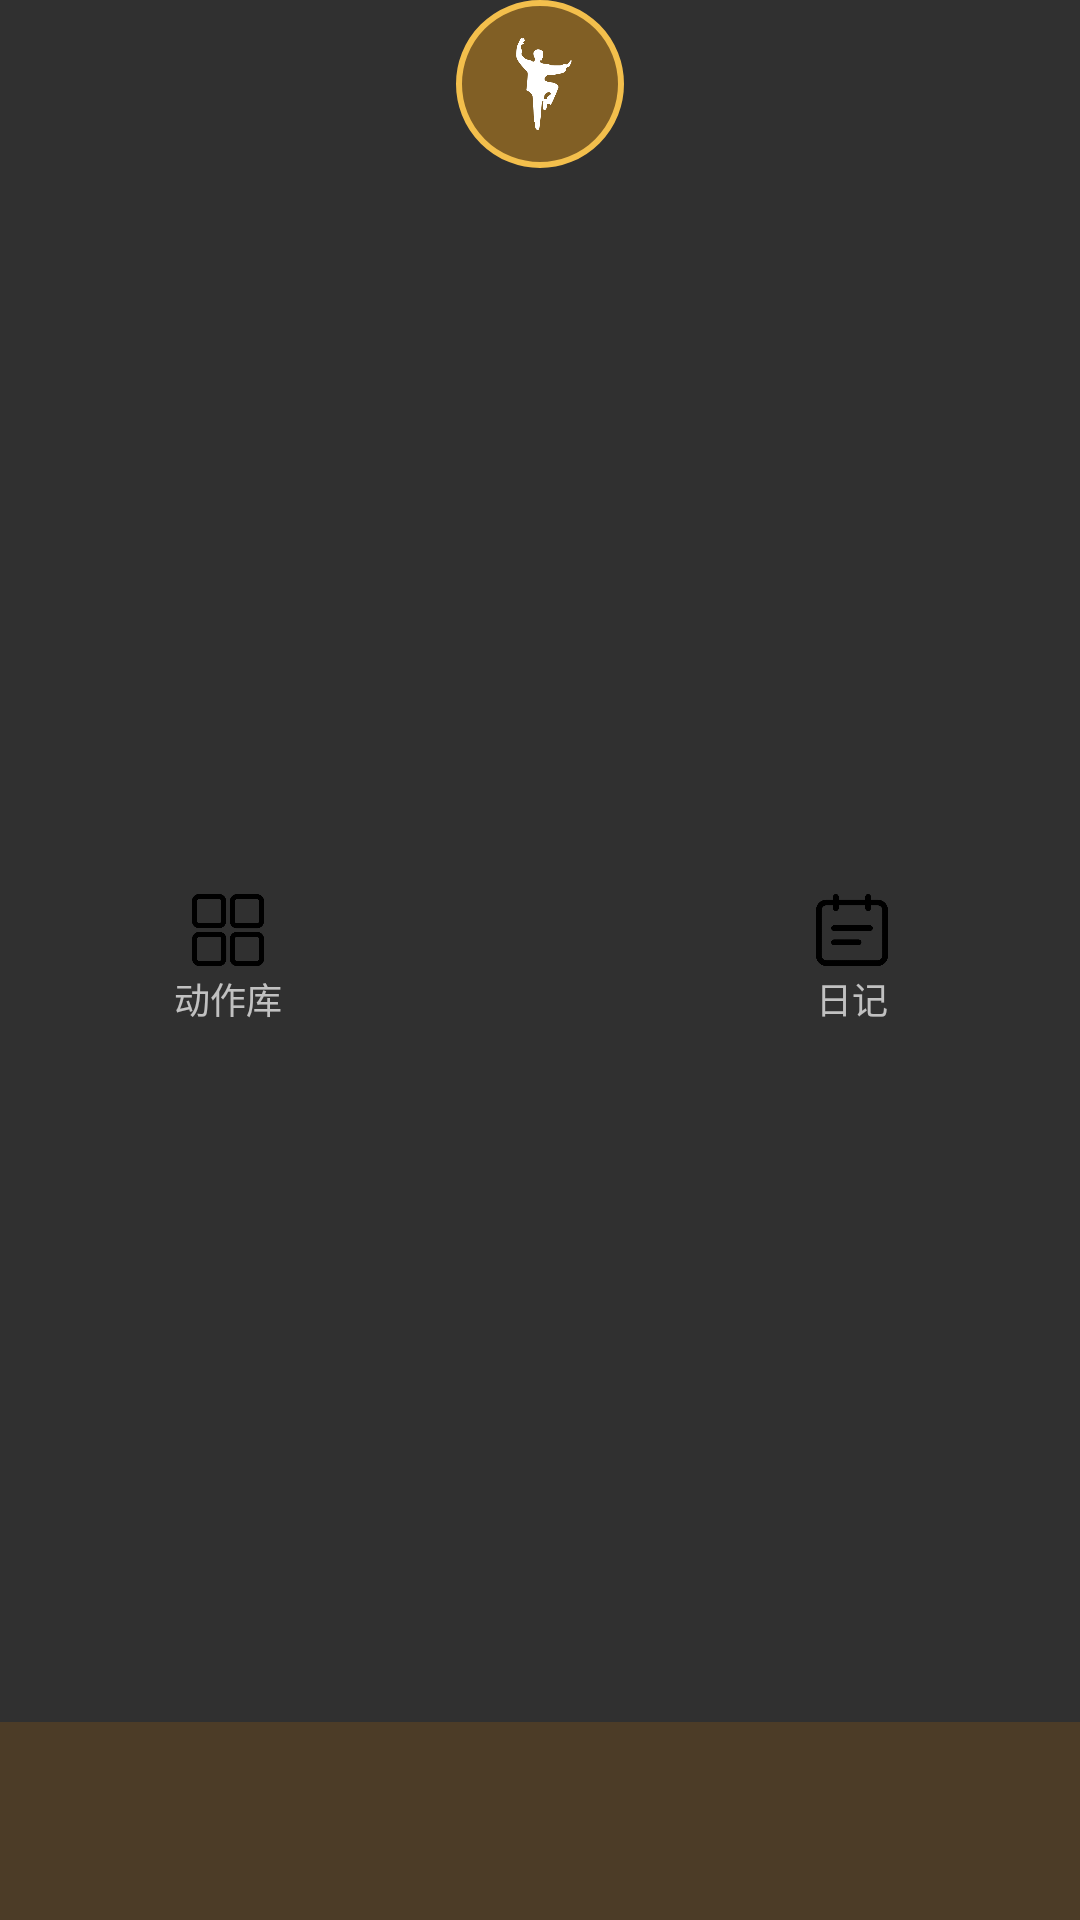

Screen size 1080px×1920px. Icon name, then its box in pixels as bbox(x1, y1, x2, y2):
training: bbox(516, 38, 572, 130)
